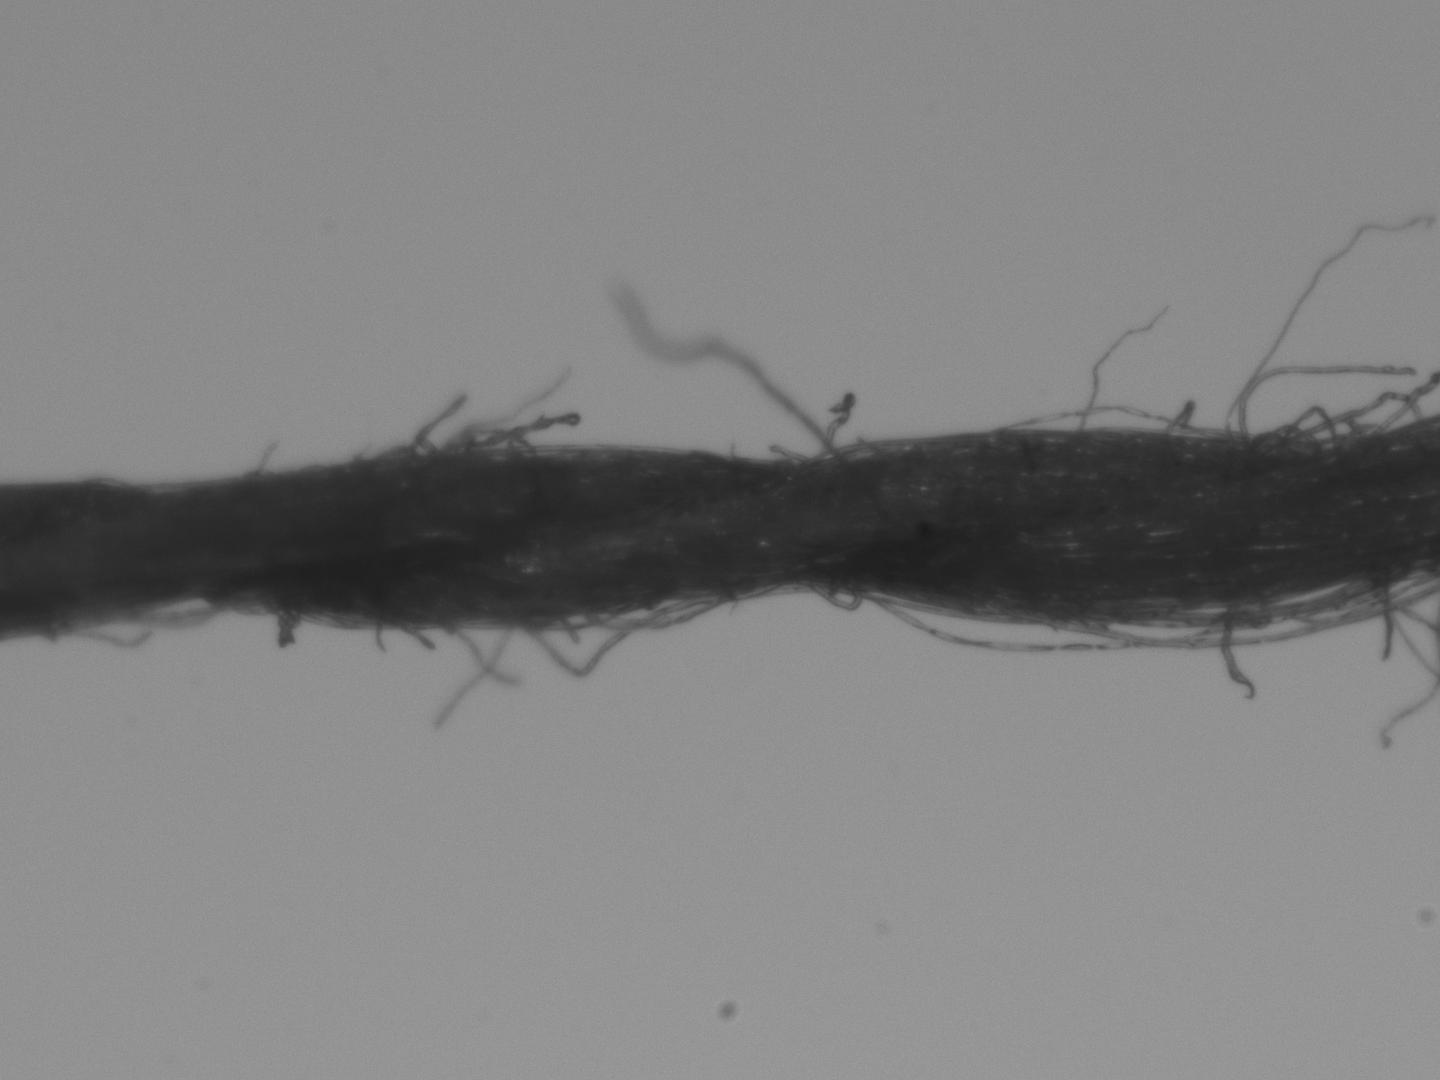loop_fiber: (874, 593, 1215, 652), (1127, 567, 1403, 625), (522, 599, 720, 677), (1293, 390, 1420, 444), (1001, 402, 1218, 432), (133, 594, 225, 627), (803, 583, 859, 614)
protruding_fiber: (1235, 360, 1417, 439), (1081, 304, 1174, 434), (403, 389, 471, 452), (1225, 601, 1259, 698), (1373, 573, 1395, 659), (392, 626, 432, 651)
